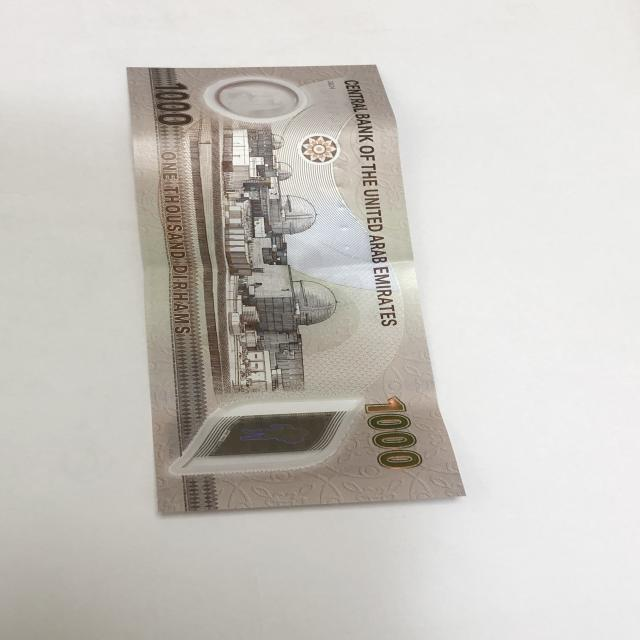1000_AED: (123, 60, 479, 519)
